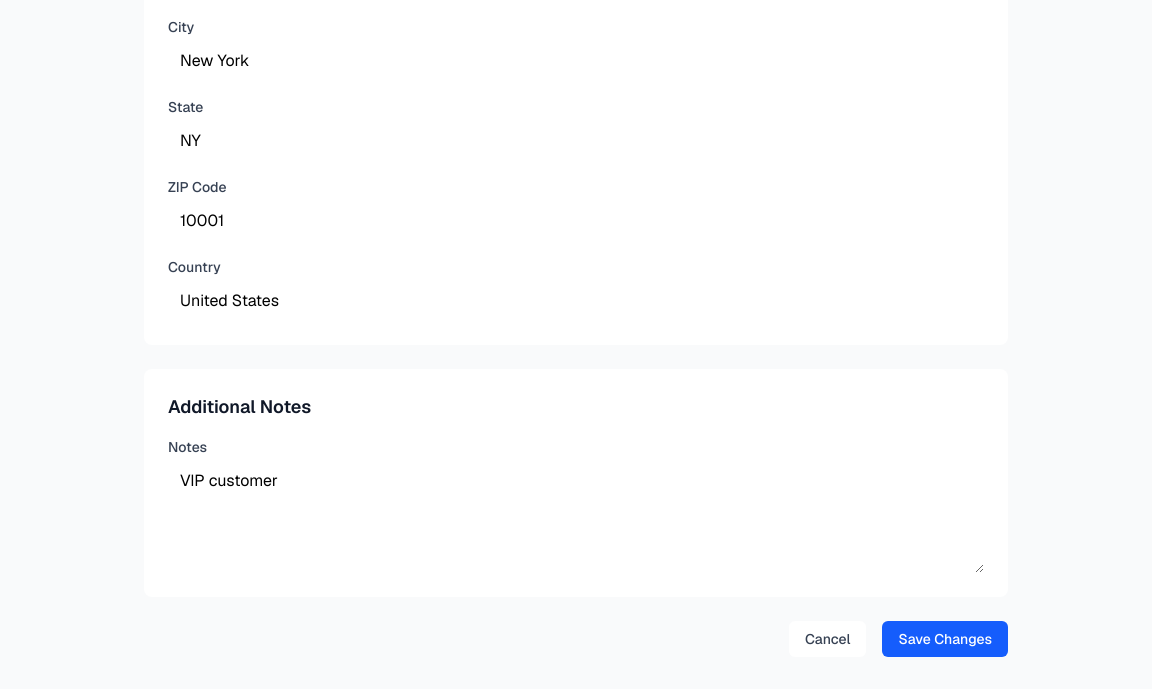
Scenario: EditCustomerPage › UI Behavior › should show loading state while submitting
(page scrolled)
Click the button "Save Changes" at (945, 639), box [882,621,1008,657]
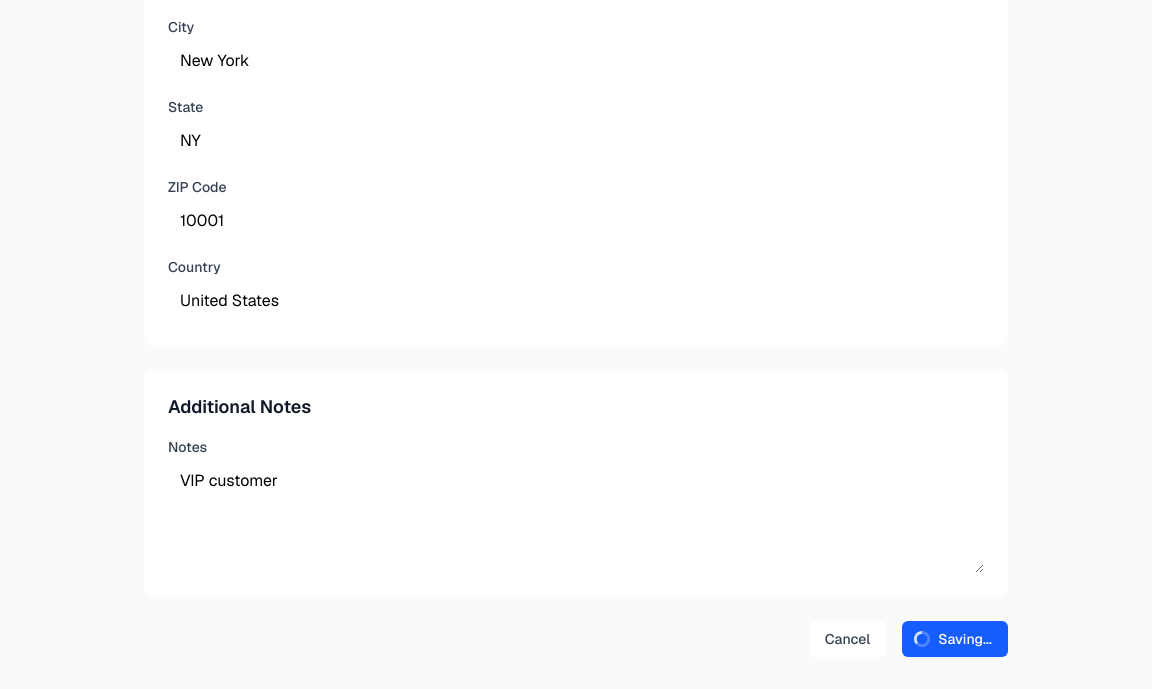
Now the text "Saving..." is shown, box [918,629,992,649]
